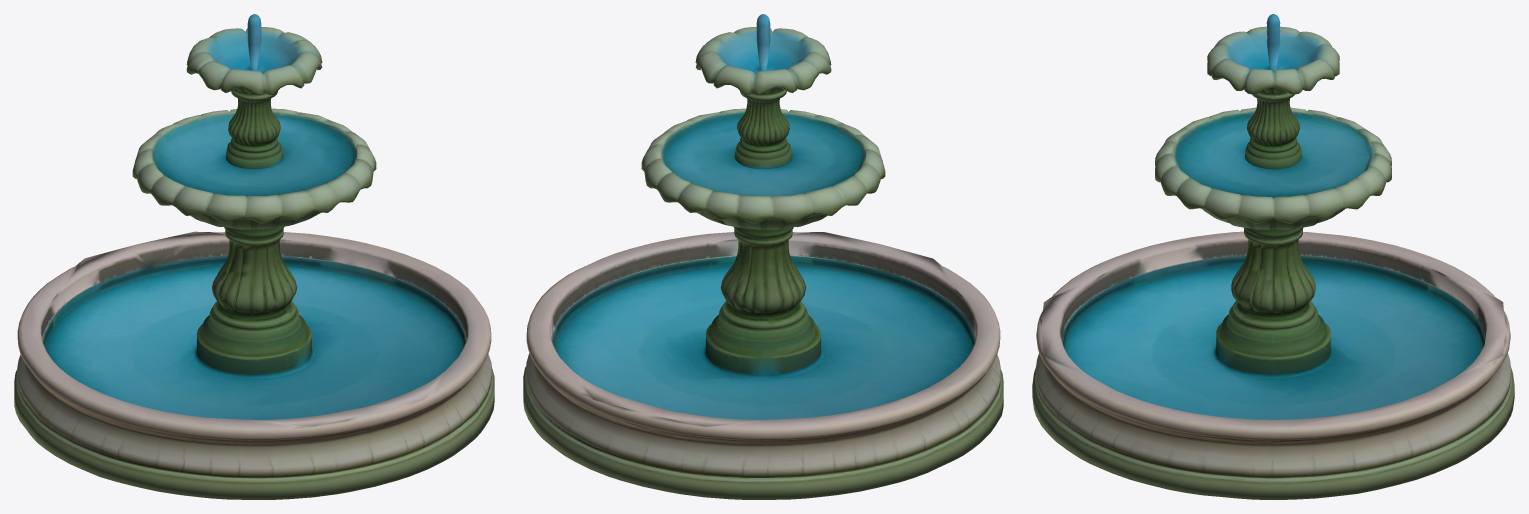
File: Outdoor__park_fountain_c2664cc0_v4.cluster.glb
3 renders of one model, left to right at view 1: azimuth 30°, elevation 25°; view 2: azimuth 150°, elevation 25°; view 3: azimuth 270°, elevation 25°, orthographic.
Visible parts, largest first — view 1: material; view 2: material; view 3: material.
Boxes of the visible parts, <box> form: material: <box>14,14,494,499</box>; material: <box>523,14,1003,499</box>; material: <box>1032,14,1514,499</box>.
Size of the model in its own units: 1.9 by 1.67 by 1.9.
1 material, 1 textured.
